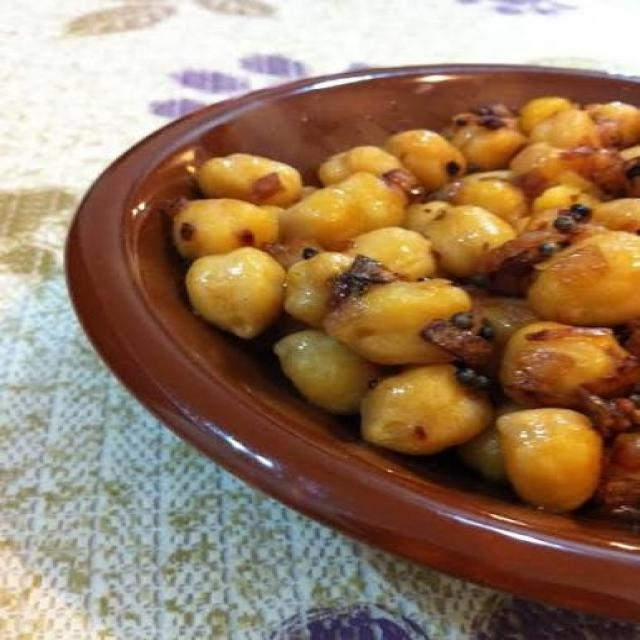Nakhi: (149, 85, 640, 533)
